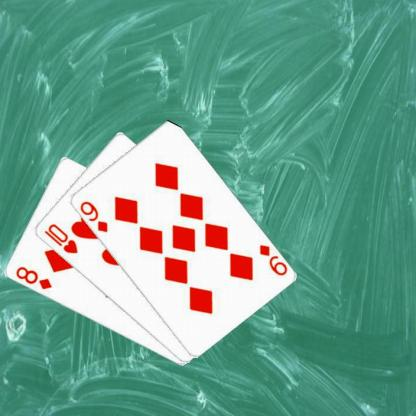10H: (41, 221, 78, 255)
8D: (12, 264, 53, 292)
9D: (77, 198, 109, 233), (256, 242, 288, 277)
